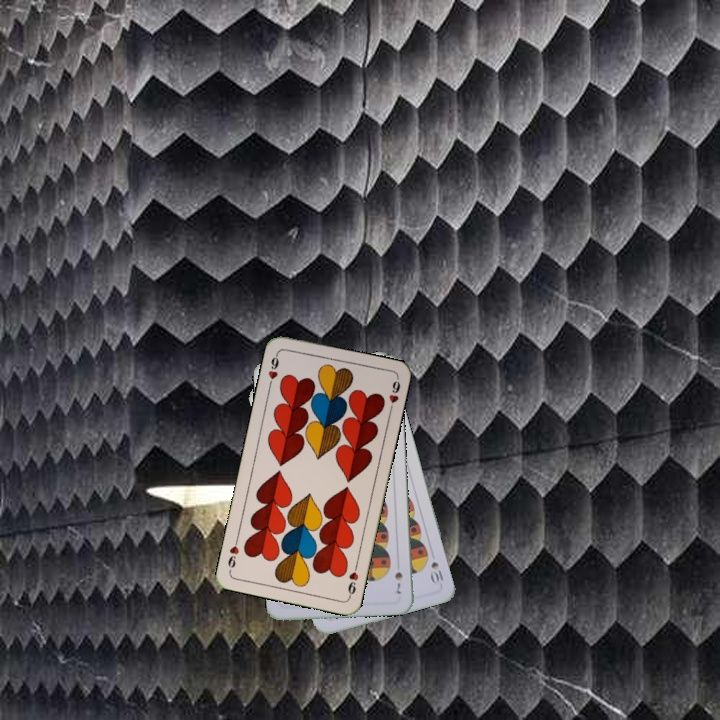H9: (344, 559, 361, 600), (264, 349, 281, 389)
S10: (427, 558, 446, 585)
S7: (391, 568, 405, 597)
